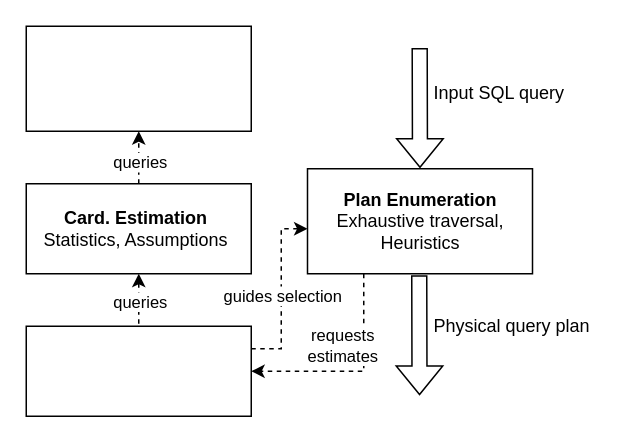
The diagram is 630 pixels wide and 443 high, and some of its shapes have lost their labels. Here are the shapes that lost their labels. From the top down, the centre of each, then its label:
At point 138,78: "Statistics Catalog Histograms, Most common values, Distinct values, ...".
At point 138,370: "Cost Model I/O costs, Compute costs, ...".
